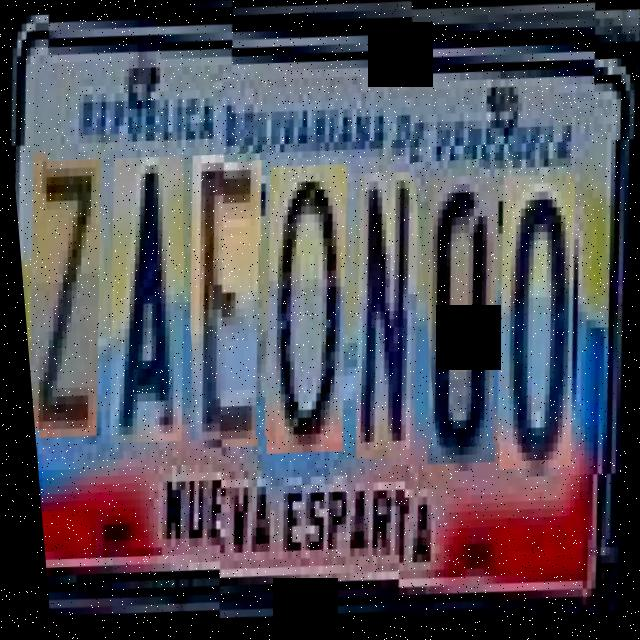0: (411, 164, 517, 451)
A: (93, 157, 205, 445)
E: (174, 154, 280, 442)
N: (340, 166, 437, 453)
O: (482, 162, 595, 457), (250, 160, 365, 448)
Z: (13, 159, 119, 438)
